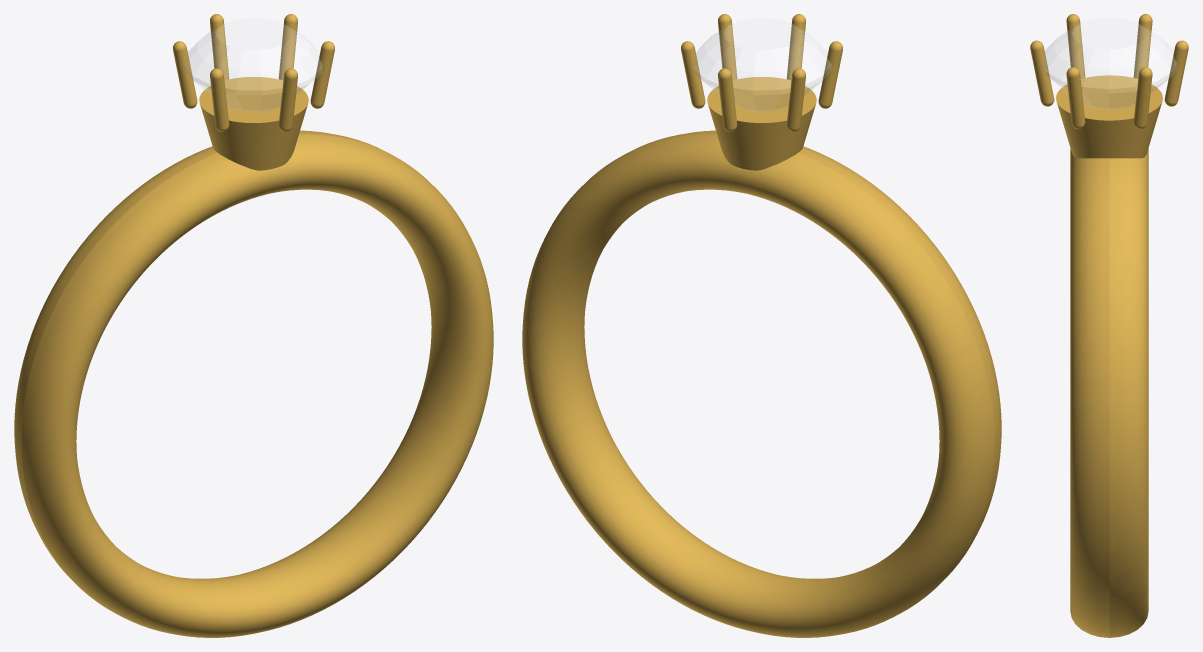
Rendered from dahab-solitaire.glb.
3 renders of one model, left to right at view 1: azimuth 30°, elevation 25°; view 2: azimuth 150°, elevation 25°; view 3: azimuth 270°, elevation 25°, orthographic. The views are drawn at different scales.
Parts seen in each view (by area): view 1: band, stone, seat, prong-0, prong-3, prong-1, prong-2, prong-4, prong-5; view 2: band, stone, seat, prong-2, prong-5, prong-4, prong-3, prong-0, prong-1; view 3: band, stone, seat, prong-1, prong-4, prong-0, prong-5, prong-2, prong-3.
Boxes of the visible parts, bbox=[...] form: band: bbox=[14, 130, 493, 637]; stone: bbox=[184, 18, 322, 111]; seat: bbox=[199, 77, 308, 170]; prong-0: bbox=[310, 41, 334, 108]; prong-3: bbox=[173, 41, 197, 108]; prong-1: bbox=[278, 68, 297, 131]; prong-2: bbox=[210, 68, 229, 131]; prong-4: bbox=[210, 14, 229, 80]; prong-5: bbox=[278, 14, 297, 80]; band: bbox=[522, 130, 1001, 637]; stone: bbox=[693, 18, 831, 111]; seat: bbox=[707, 77, 816, 170]; prong-2: bbox=[818, 41, 842, 108]; prong-5: bbox=[681, 41, 705, 108]; prong-4: bbox=[718, 68, 737, 131]; prong-3: bbox=[786, 68, 805, 131]; prong-0: bbox=[718, 14, 737, 80]; prong-1: bbox=[786, 14, 805, 80]; band: bbox=[1070, 148, 1148, 637]; stone: bbox=[1042, 18, 1176, 109]; seat: bbox=[1056, 75, 1162, 158]; prong-1: bbox=[1030, 40, 1054, 106]; prong-4: bbox=[1164, 40, 1188, 106]; prong-0: bbox=[1066, 67, 1085, 129]; prong-5: bbox=[1133, 67, 1152, 129]; prong-2: bbox=[1066, 14, 1085, 78]; prong-3: bbox=[1133, 14, 1152, 78].
Size of the model in its own units: 0.0214 by 0.0261 by 0.00647.
